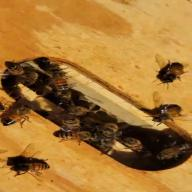Bee: (139, 92, 192, 133), (0, 152, 58, 178), (41, 127, 105, 148), (151, 57, 191, 87), (0, 101, 37, 130), (2, 58, 44, 80), (44, 76, 82, 94)
